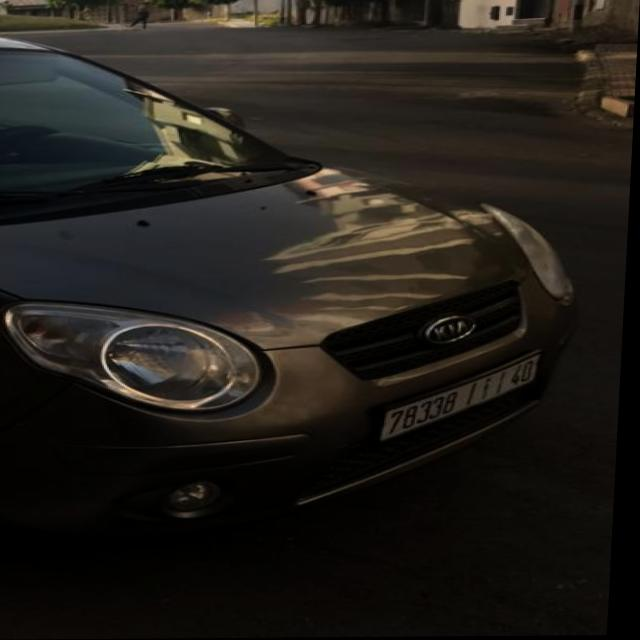License-Plate: (384, 354, 542, 441)
